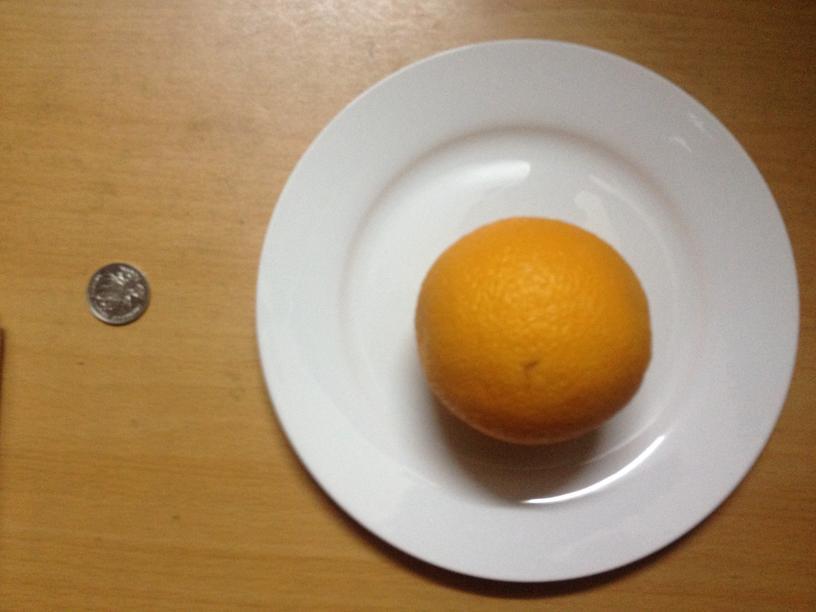coin: (88, 261, 148, 326)
orange: (416, 214, 650, 443)
